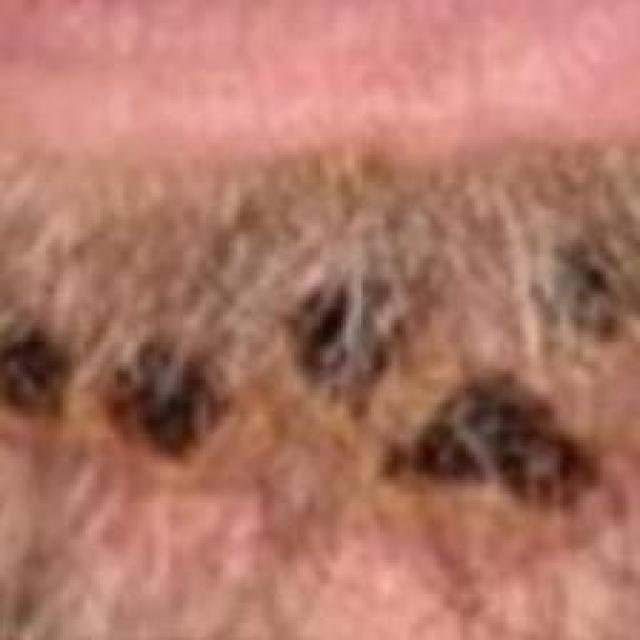Eczema: (0, 207, 640, 515)
